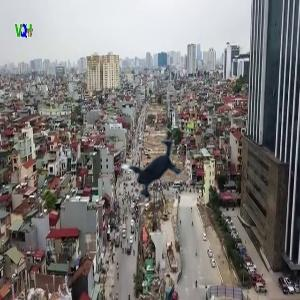drone: (106, 122, 200, 216)
